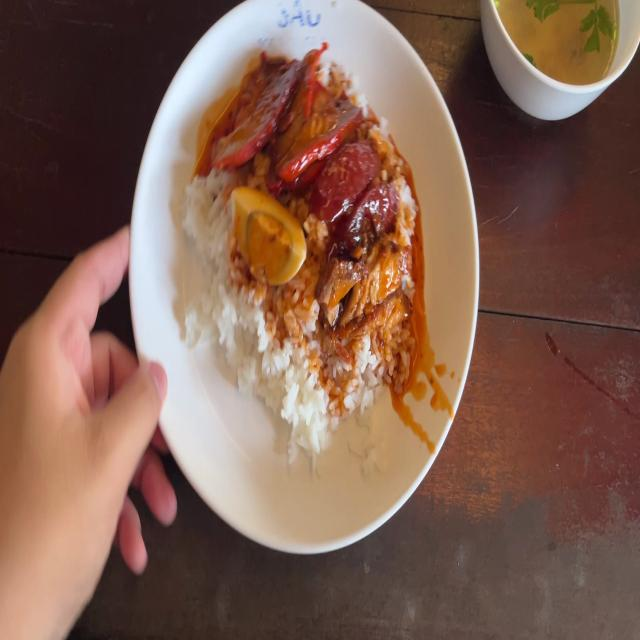01boiled_egg: (234, 192, 303, 273)
01chainese_sausage: (326, 145, 398, 242)
01crispy_pork: (322, 242, 409, 336)
01red_pork: (218, 53, 338, 169)
01red_pork_and_crispy_pork: (187, 52, 415, 444)
01rice: (185, 274, 324, 433), (325, 338, 393, 418), (186, 167, 232, 281)
